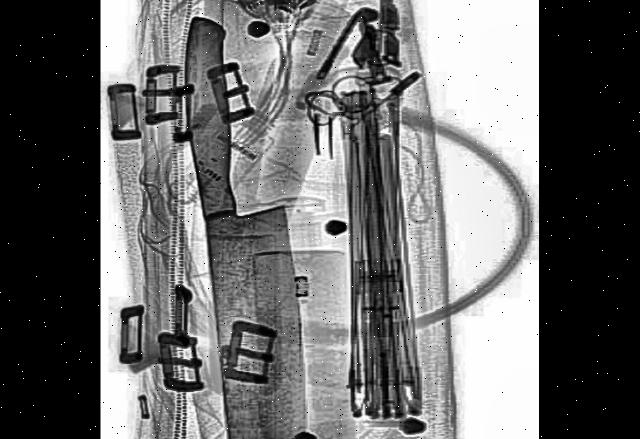Knife: (180, 1, 313, 439)
